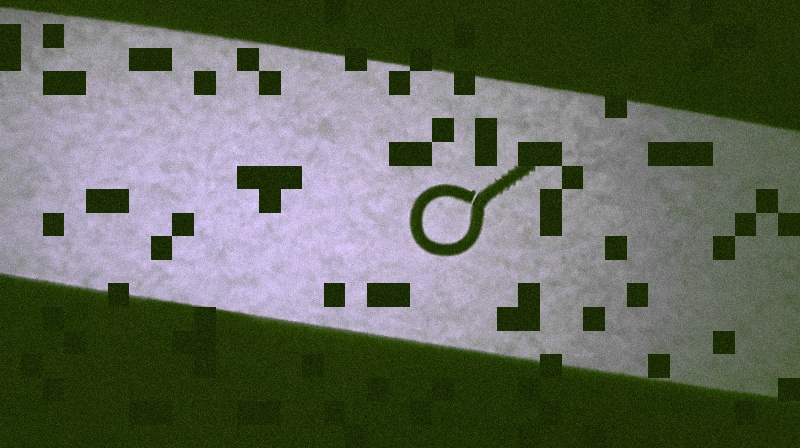O001: (406, 146, 545, 259)
